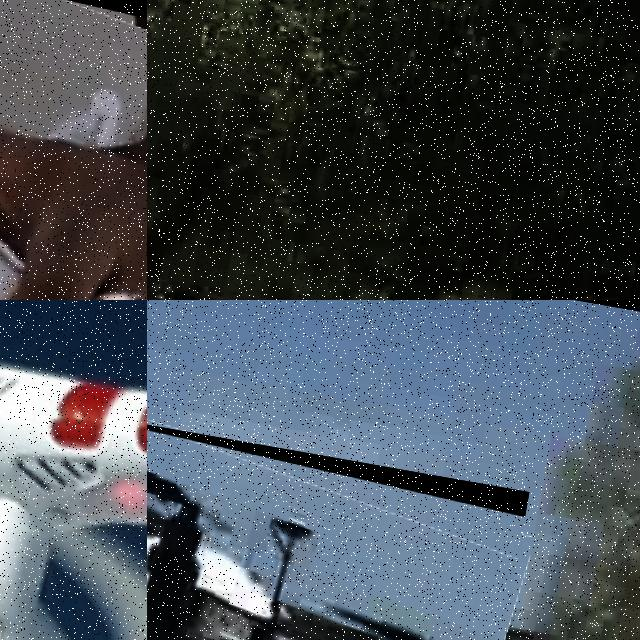drone: (147, 407, 529, 640), (0, 300, 147, 640), (0, 0, 147, 300)
